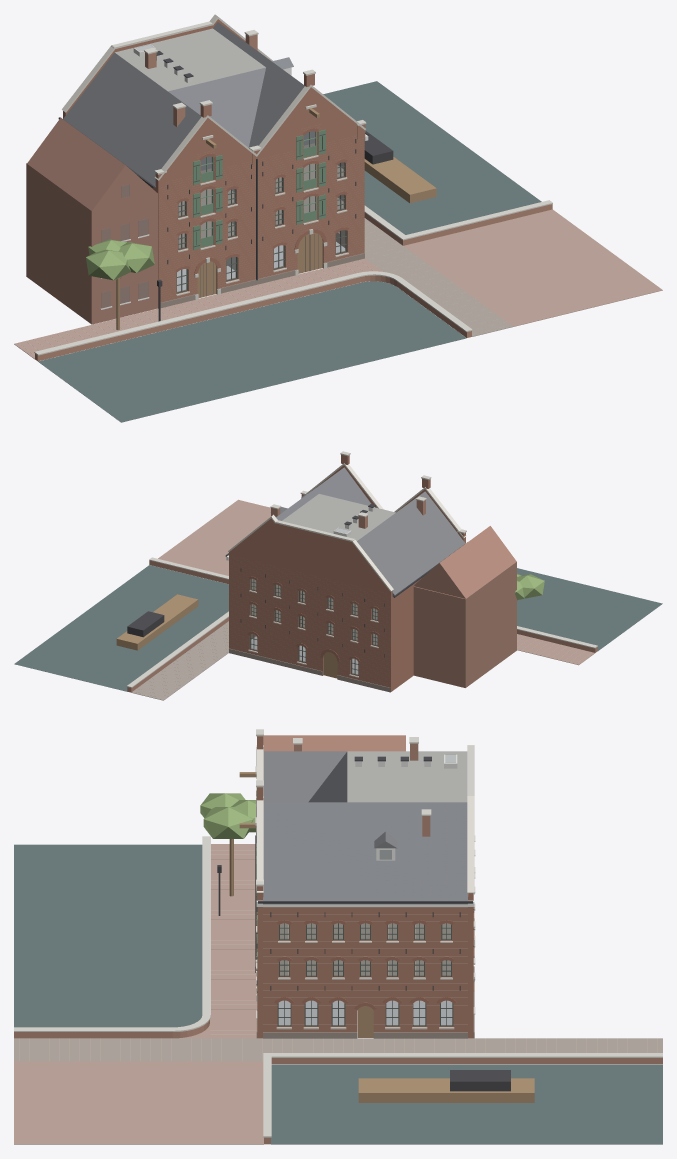
File: clay-amsterdam-canal-warehouse-clay-v003.glb
3 views of the same model, one above another, from view 1: azimuth 30°, elevation 25°; view 2: azimuth 150°, elevation 25°; view 3: azimuth 270°, elevation 25° (orthographic). The views are drawn at different scales.
Visible parts, largest first — view 1: CLAY_WATER, CLAY_WALL, CLAY_PAVING, CLAY_NEIGHBOUR, CLAY_ROOF, CLAY_STONE, CLAY_SETTS, CLAY_MEMBRANE, CLAY_BRICK, CLAY_TIMBER, CLAY_GLASS, CLAY_GREEN (+7 smaller); view 2: CLAY_WALL, CLAY_WATER, CLAY_NEIGHBOUR, CLAY_ROOF, CLAY_PAVING, CLAY_STONE, CLAY_SETTS, CLAY_MEMBRANE, CLAY_TIMBER, CLAY_BRICK, CLAY_HARDWARE, CLAY_GLASS (+5 smaller); view 3: CLAY_WATER, CLAY_PAVING, CLAY_ROOF, CLAY_WALL, CLAY_SETTS, CLAY_STONE, CLAY_MEMBRANE, CLAY_TIMBER, CLAY_BRICK, CLAY_JOINT, CLAY_GLASS, CLAY_HARDWARE (+7 smaller).
Part boxes in pixels (box(x1,y1,x2,y2)): CLAY_WATER: box(38, 81, 541, 422); CLAY_WALL: box(63, 19, 365, 308); CLAY_PAVING: box(14, 209, 662, 359); CLAY_NEIGHBOUR: box(26, 118, 157, 324); CLAY_ROOF: box(63, 22, 314, 187); CLAY_STONE: box(34, 14, 552, 355); CLAY_SETTS: box(364, 218, 513, 336); CLAY_MEMBRANE: box(115, 28, 265, 91); CLAY_BRICK: box(35, 34, 552, 361); CLAY_TIMBER: box(116, 108, 436, 329); CLAY_GLASS: box(101, 44, 345, 308); CLAY_GREEN: box(193, 129, 325, 249); CLAY_WALL: box(229, 454, 465, 691); CLAY_WATER: box(14, 565, 662, 691); CLAY_NEIGHBOUR: box(413, 526, 516, 687); CLAY_ROOF: box(270, 467, 465, 596); CLAY_PAVING: box(158, 499, 594, 665); CLAY_STONE: box(126, 451, 597, 687); CLAY_SETTS: box(131, 621, 228, 700); CLAY_MEMBRANE: box(282, 494, 395, 540); CLAY_TIMBER: box(116, 594, 517, 678); CLAY_BRICK: box(127, 500, 597, 692); CLAY_HARDWARE: box(127, 504, 467, 657); CLAY_GLASS: box(250, 528, 377, 674); CLAY_WATER: box(14, 844, 662, 1144); CLAY_PAVING: box(14, 844, 263, 1144); CLAY_ROOF: box(263, 751, 467, 904); CLAY_WALL: box(257, 736, 473, 1038); CLAY_SETTS: box(14, 1038, 662, 1061); CLAY_STONE: box(14, 729, 662, 1137); CLAY_MEMBRANE: box(347, 751, 467, 802); CLAY_TIMBER: box(229, 772, 534, 1102); CLAY_BRICK: box(14, 743, 662, 1144); CLAY_JOINT: box(19, 850, 657, 1060); CLAY_GLASS: box(278, 754, 455, 1025); CLAY_HARDWARE: box(217, 756, 510, 1091).
Bounding box in the file's own units: 52.5 × 18.43 × 48.
